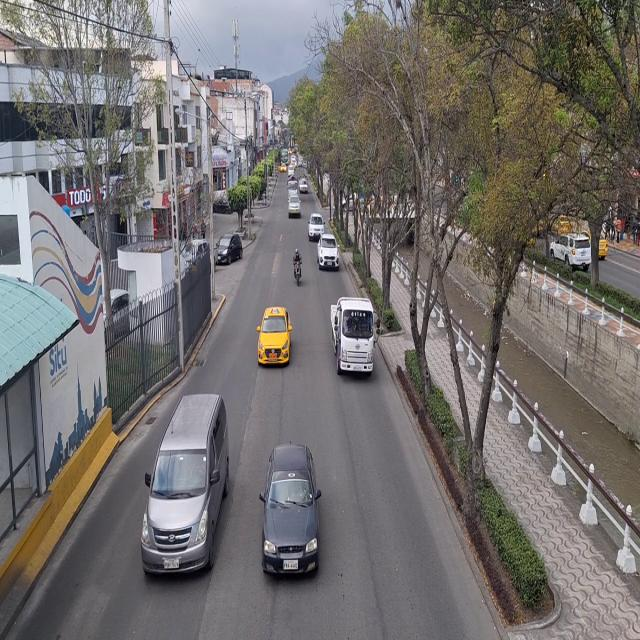BUS: (140, 389, 233, 581)
MOTORCYCLE: (294, 260, 302, 287)
SED: (258, 438, 322, 586)
TRUCK: (330, 294, 376, 374)
